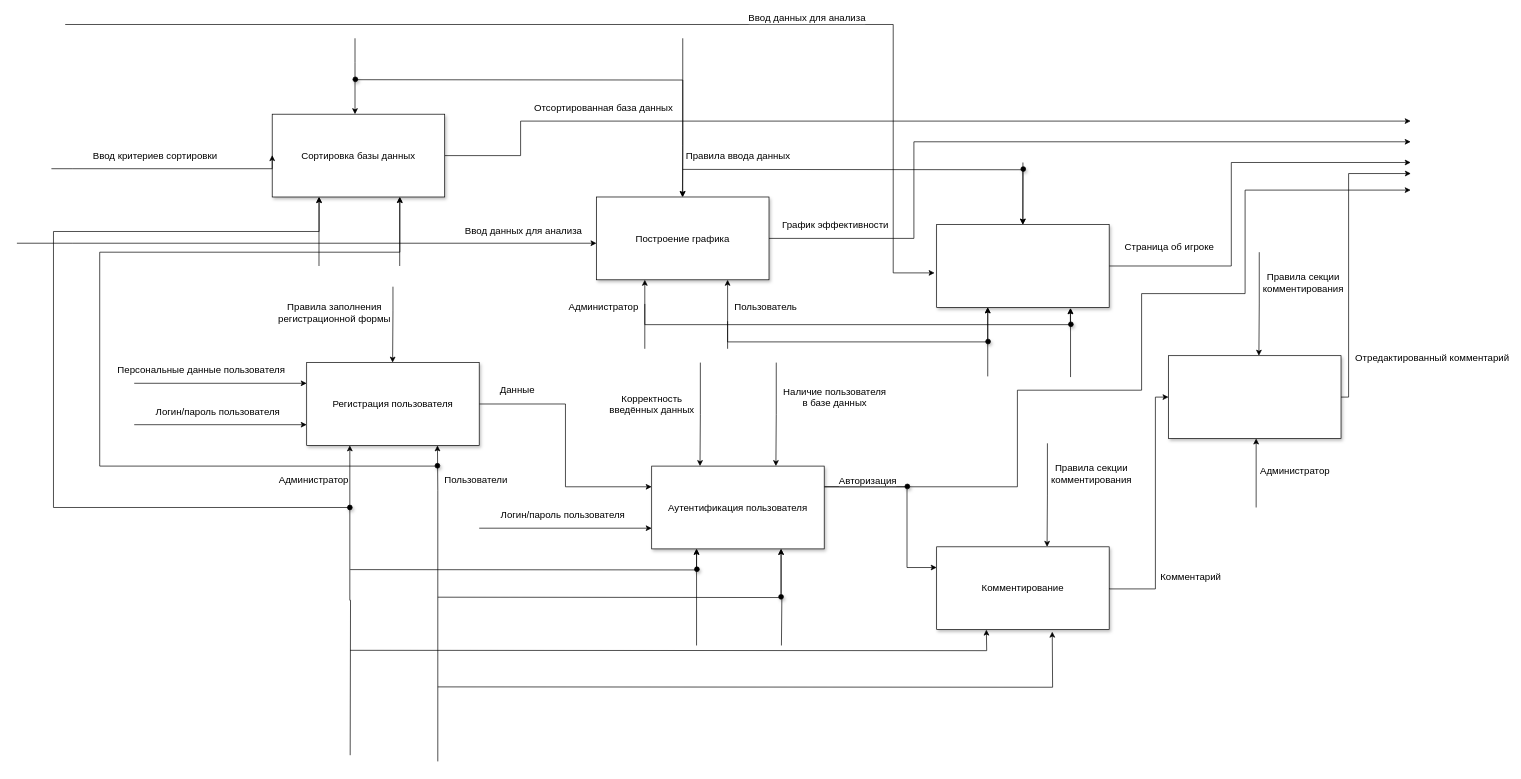
Some shapes in this 1521 by 779 pixel diagram are drawn without their labels. Here are the shapes that lost their labels. From the top down, the centre of each, then its label:
At [1023,266]: "Поиск игрока".
At [1255,397]: "Редактирование секции комментариев".
